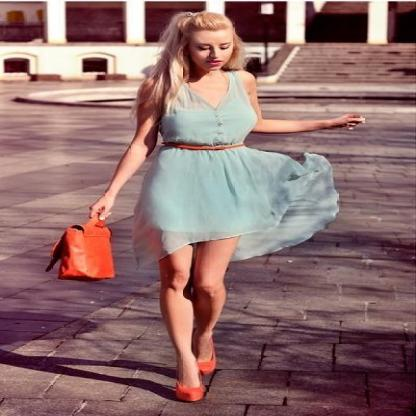bag: (62, 220, 113, 277)
dress: (114, 88, 342, 274)
shoe: (166, 355, 212, 402)
